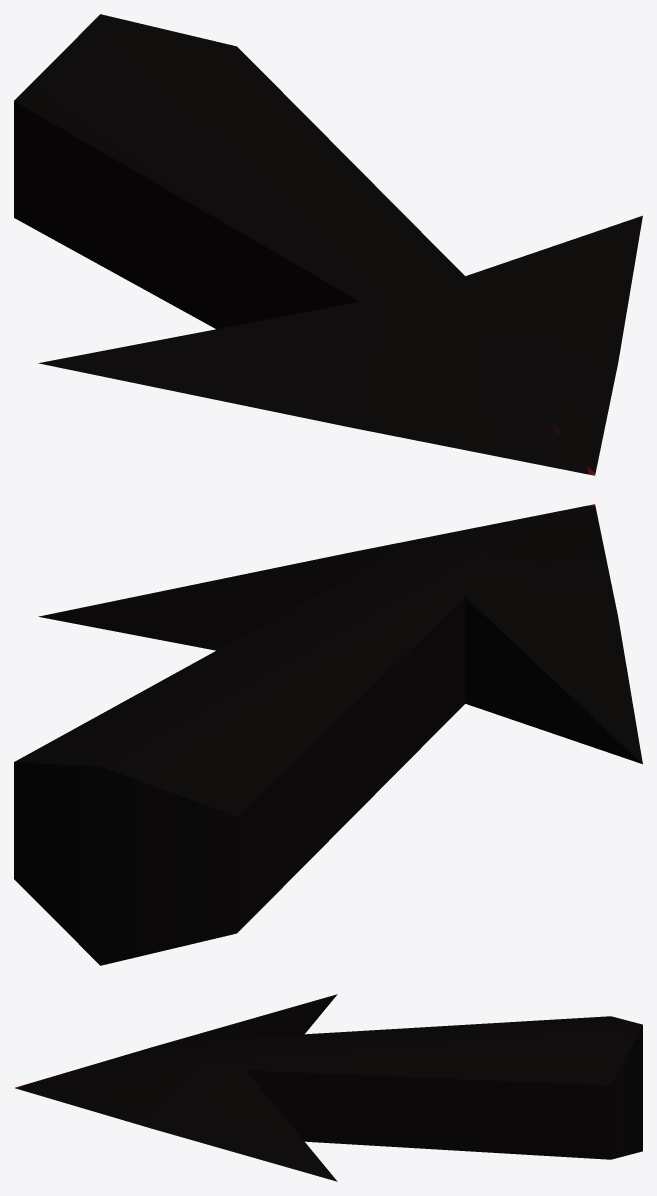
Rendered from Arrow.fbx.
3 renders of one model, top to bottom at view 1: azimuth 30°, elevation 25°; view 2: azimuth 150°, elevation 25°; view 3: azimuth 270°, elevation 25°, orthographic. The views are drawn at different scales.
Visible parts, largest first — view 1: Arrow; view 2: Arrow; view 3: Arrow.
Boxes of the visible parts, x1,y1,x2,y2 form: Arrow: (14,14,642,475); Arrow: (14,504,642,965); Arrow: (15,994,642,1181).
Size of the model in its own units: 140 by 44.15 by 199.
